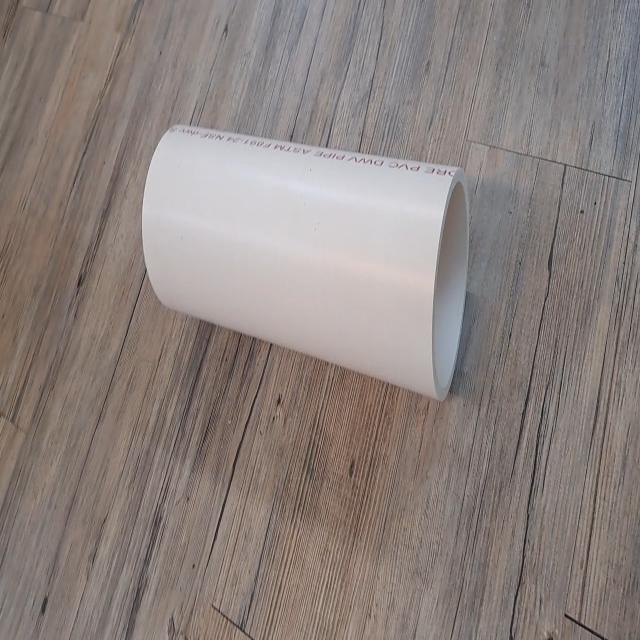CORAL: (135, 112, 473, 434)
